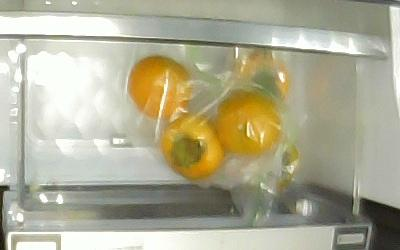persimmon_vinyl: (214, 89, 282, 155), (127, 55, 192, 122), (160, 114, 223, 179), (235, 53, 293, 106), (254, 140, 300, 191)
